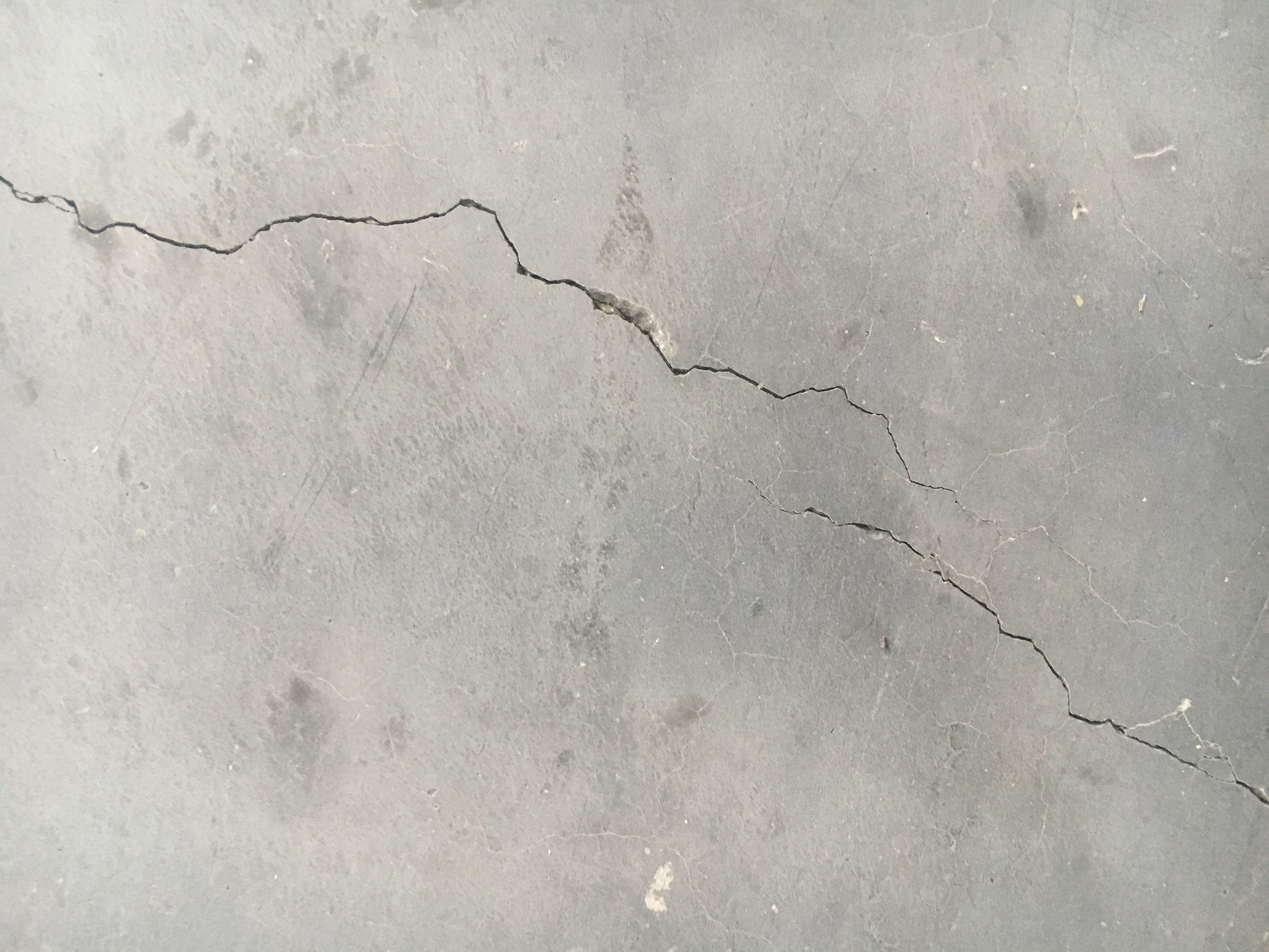Diagonal Crack: (5, 170, 1266, 811)
